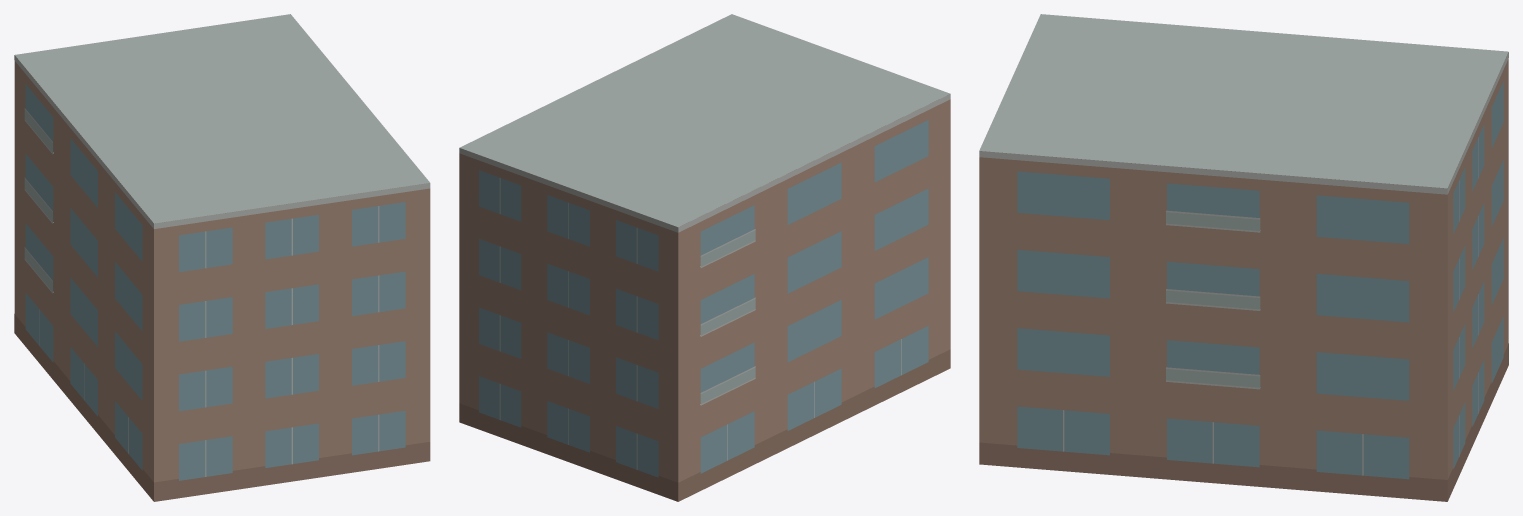
File: residential-dd6f8a8a-bc9f-45ad-8148-7183b4aee3d9.glb
3 views of the same model, side by side, from view 1: azimuth 30°, elevation 25°; view 2: azimuth 150°, elevation 25°; view 3: azimuth 270°, elevation 25° (orthographic). The views are drawn at different scales.
Parts seen in each view (by area): view 1: residential-dd6f8a8a-bc9f-45ad-8148-7183b4aee3d9.tmp; view 2: residential-dd6f8a8a-bc9f-45ad-8148-7183b4aee3d9.tmp; view 3: residential-dd6f8a8a-bc9f-45ad-8148-7183b4aee3d9.tmp.
Boxes of the visible parts, x1,y1,x2,y2 form: residential-dd6f8a8a-bc9f-45ad-8148-7183b4aee3d9.tmp: (14, 14, 430, 501); residential-dd6f8a8a-bc9f-45ad-8148-7183b4aee3d9.tmp: (459, 14, 950, 501); residential-dd6f8a8a-bc9f-45ad-8148-7183b4aee3d9.tmp: (979, 14, 1508, 501).
Size of the model in its own units: 14.56 by 12.2 by 18.69.
